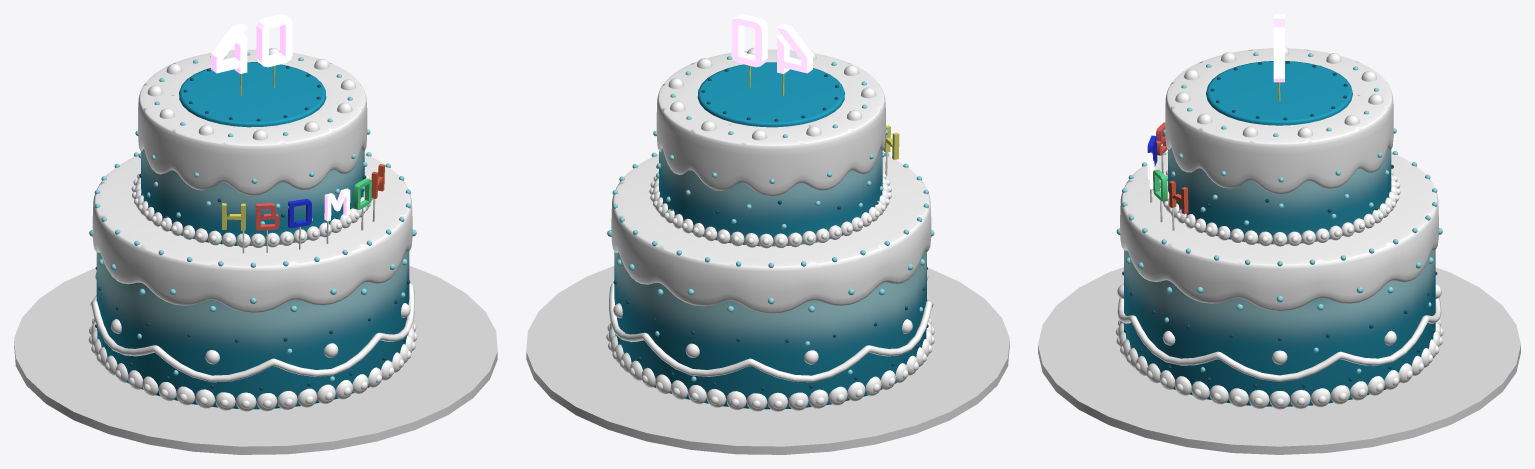
File: Cake.fbx
3 renders of one model, left to right at view 1: azimuth 30°, elevation 25°; view 2: azimuth 150°, elevation 25°; view 3: azimuth 270°, elevation 25°, orthographic.
Parts seen in each view (by area): view 1: Object006_cake_0, Cylinder, Text, Text.001; view 2: Object006_cake_0, Cylinder, Text.001; view 3: Object006_cake_0, Cylinder, Text, Text.001.
Boxes of the visible parts, bbox=[...] form: Object006_cake_0: bbox=[88, 48, 417, 411]; Cylinder: bbox=[14, 265, 497, 454]; Text: bbox=[222, 164, 384, 253]; Text.001: bbox=[211, 14, 292, 95]; Object006_cake_0: bbox=[606, 47, 934, 411]; Cylinder: bbox=[526, 266, 1009, 454]; Text.001: bbox=[731, 14, 812, 95]; Object006_cake_0: bbox=[1115, 47, 1443, 409]; Cylinder: bbox=[1038, 267, 1520, 454]; Text: bbox=[1147, 122, 1188, 230]; Text.001: bbox=[1273, 14, 1284, 101].
Size of the model in its own units: 3.32 by 2.49 by 3.32.
Materials: 9 (1 with a texture image).
